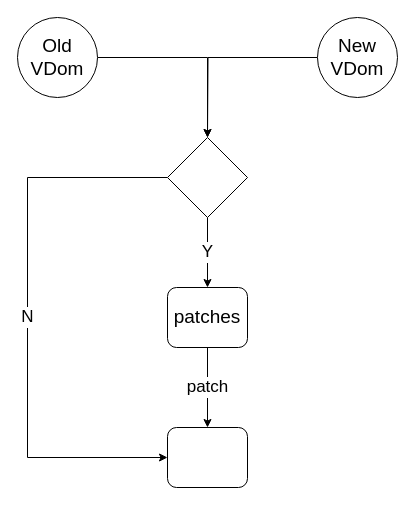
Image size: 415x505. Some labels were removed from this diagram. Here are the shapes that lost their labels. From the top down, the centre of each, then its label:
At (x=207, y=177): "diff".
At (x=207, y=457): "Real Dom".
